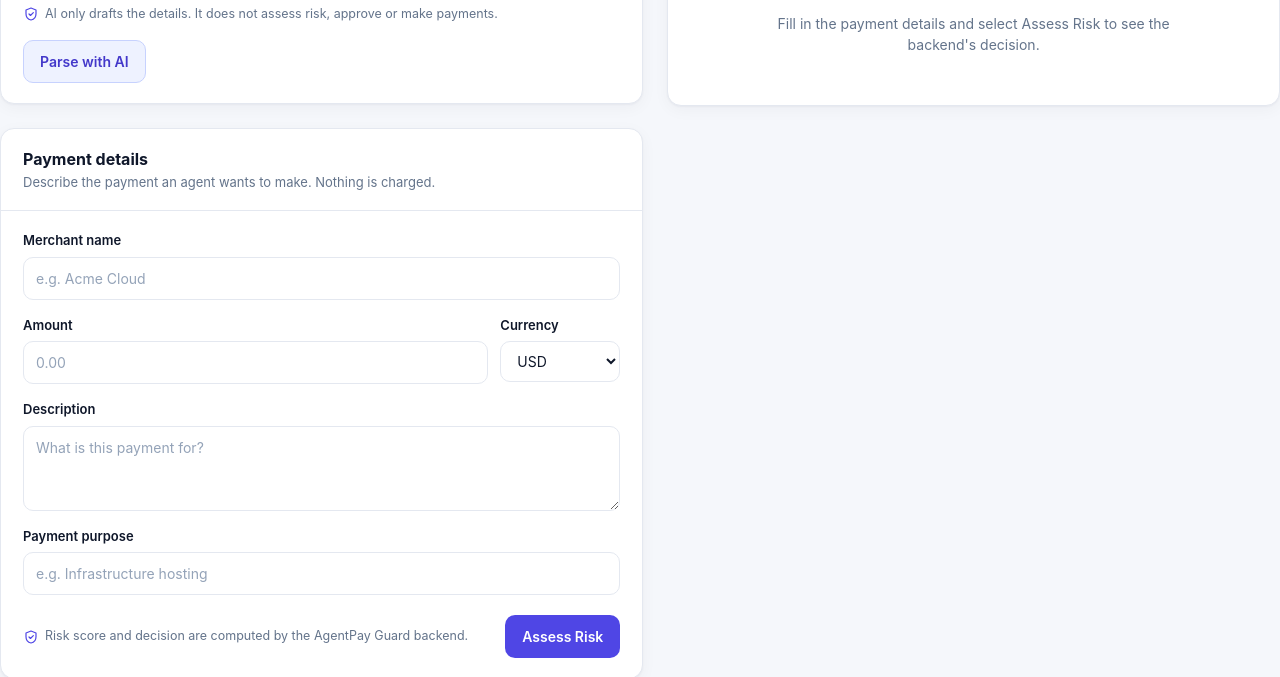
Test: NewPaymentPage: client-side validation › clears a field error when the field is edited
(page scrolled)
Click the button "Assess Risk": point(563, 637) [505,615,620,658]
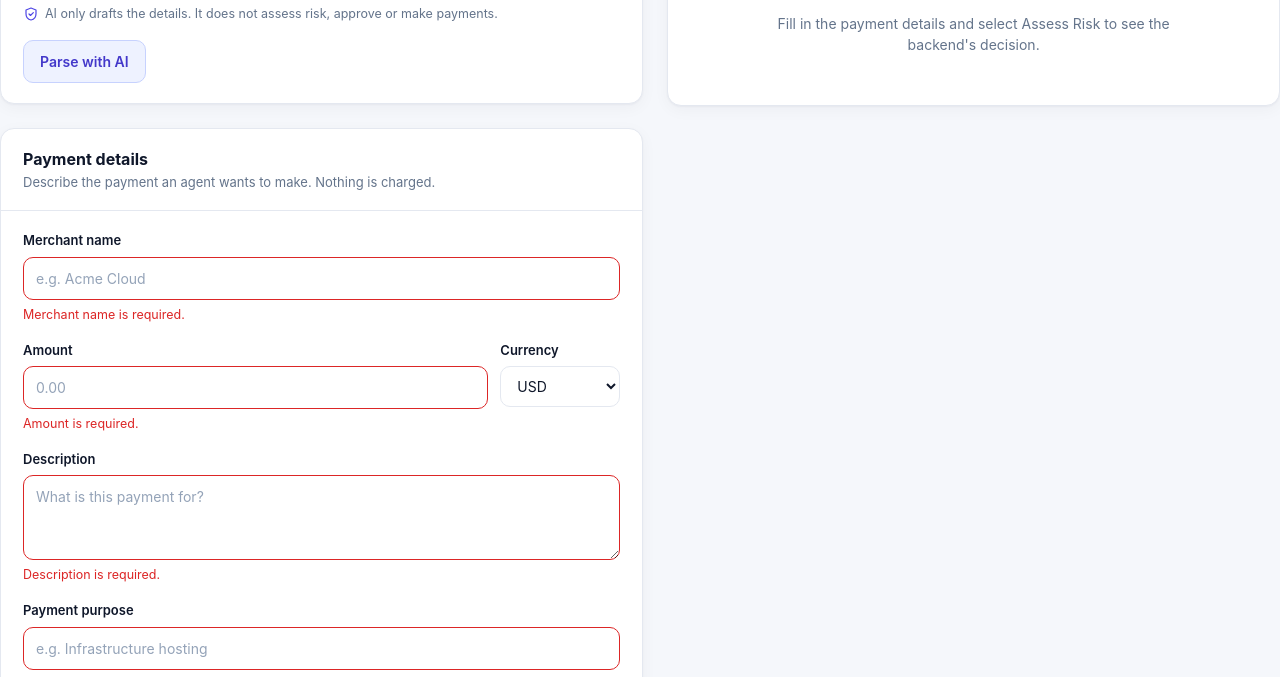
In the field labelled "Merchant name": point(322, 278) [23,257,620,300], type "A"
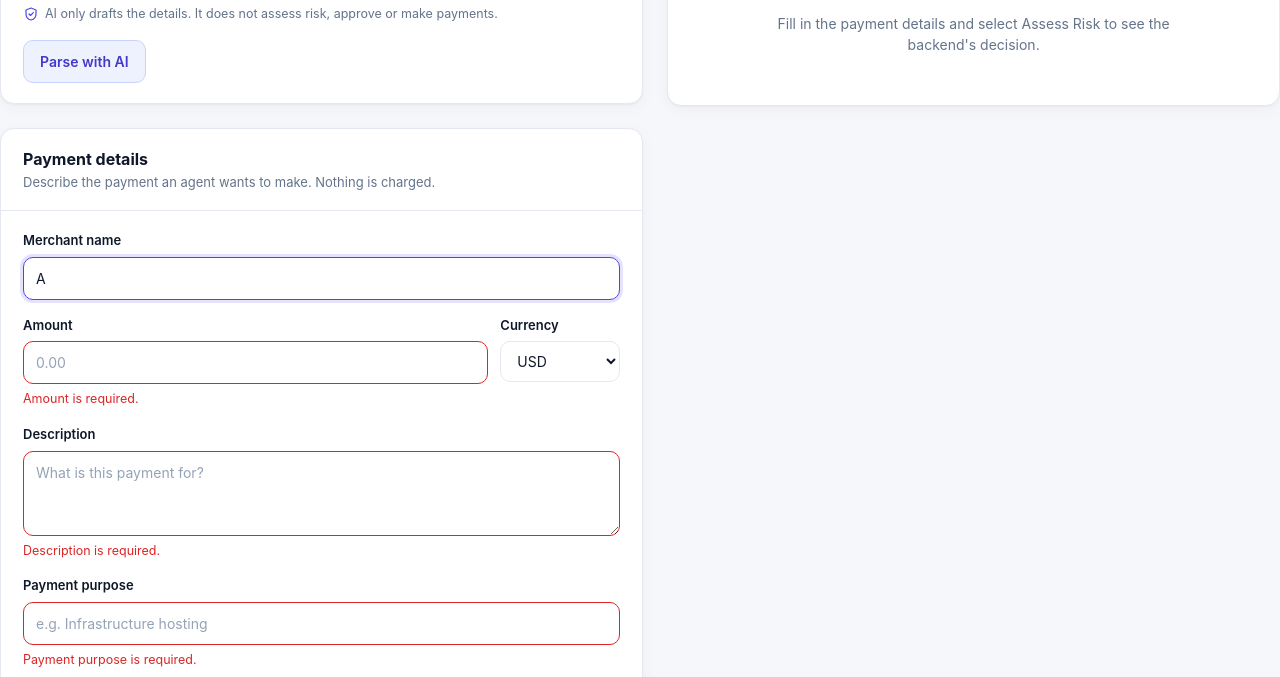
Check: the field labelled "Merchant name" does not have attribute aria-invalid, box [23,257,620,300]
Check: the field labelled "Amount" is marked as invalid, box [23,341,488,384]
